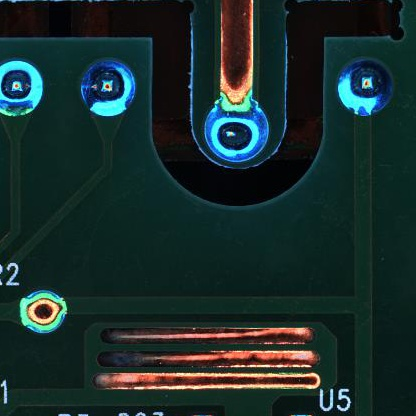spot: (202, 98, 271, 165), (335, 58, 396, 117), (78, 59, 137, 117), (1, 60, 45, 117), (19, 288, 70, 335)
